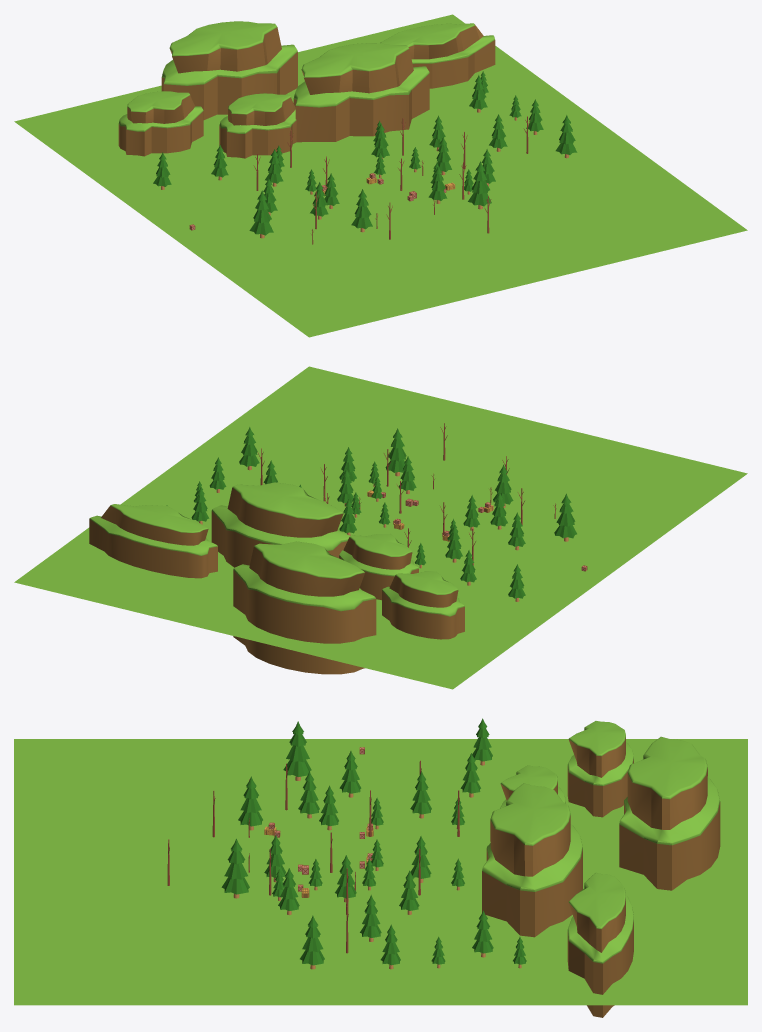
File: pine forest.fbx
3 renders of one model, top to bottom at view 1: azimuth 30°, elevation 25°; view 2: azimuth 150°, elevation 25°; view 3: azimuth 270°, elevation 25°, orthographic. The views are drawn at different scales.
Parts seen in each view (by area): view 1: pPlane3, pCylinder1, pCylinder5, pCylinder6, pCylinder4, pCylinder2, pine_tree_2, pine_tree_19; view 2: pPlane3, pCylinder5, pCylinder1, pCylinder6, pCylinder4, pCylinder2, pine_tree_19, pine_tree_2; view 3: pPlane3, pCylinder5, pCylinder1, pCylinder6, pCylinder4, pCylinder2, pine_tree_2, pine_tree_19, pine_tree_22, pine_tree_5, pine_tree_8, pine_tree_9 (+12 smaller).
Part boxes in pixels (box(x1,y1,x2,y2)): pPlane3: box(14, 14, 747, 337); pCylinder1: box(293, 43, 429, 142); pCylinder5: box(161, 21, 297, 119); pCylinder6: box(380, 23, 495, 88); pCylinder4: box(118, 91, 203, 156); pCylinder2: box(219, 93, 296, 158); pine_tree_2: box(468, 161, 491, 209); pine_tree_19: box(249, 190, 273, 238); pPlane3: box(14, 366, 747, 689); pCylinder5: box(233, 541, 376, 674); pCylinder1: box(211, 482, 350, 567); pCylinder6: box(89, 504, 217, 578); pCylinder4: box(382, 571, 464, 639); pCylinder2: box(339, 534, 418, 600); pine_tree_19: box(554, 493, 576, 541); pine_tree_2: box(385, 428, 406, 476); pPlane3: box(14, 739, 747, 1005); pCylinder5: box(619, 736, 720, 890); pCylinder1: box(482, 783, 582, 937); pCylinder6: box(567, 872, 633, 1017); pCylinder4: box(567, 721, 633, 817); pCylinder2: box(500, 765, 565, 808); pine_tree_2: box(221, 838, 249, 898); pine_tree_19: box(283, 721, 311, 780); pine_tree_22: box(300, 915, 324, 969); pine_tree_5: box(238, 776, 262, 830); pine_tree_8: box(298, 771, 319, 818); pine_tree_9: box(410, 771, 431, 818).
Size of the model in its own units: 462 by 99.74 by 538.
